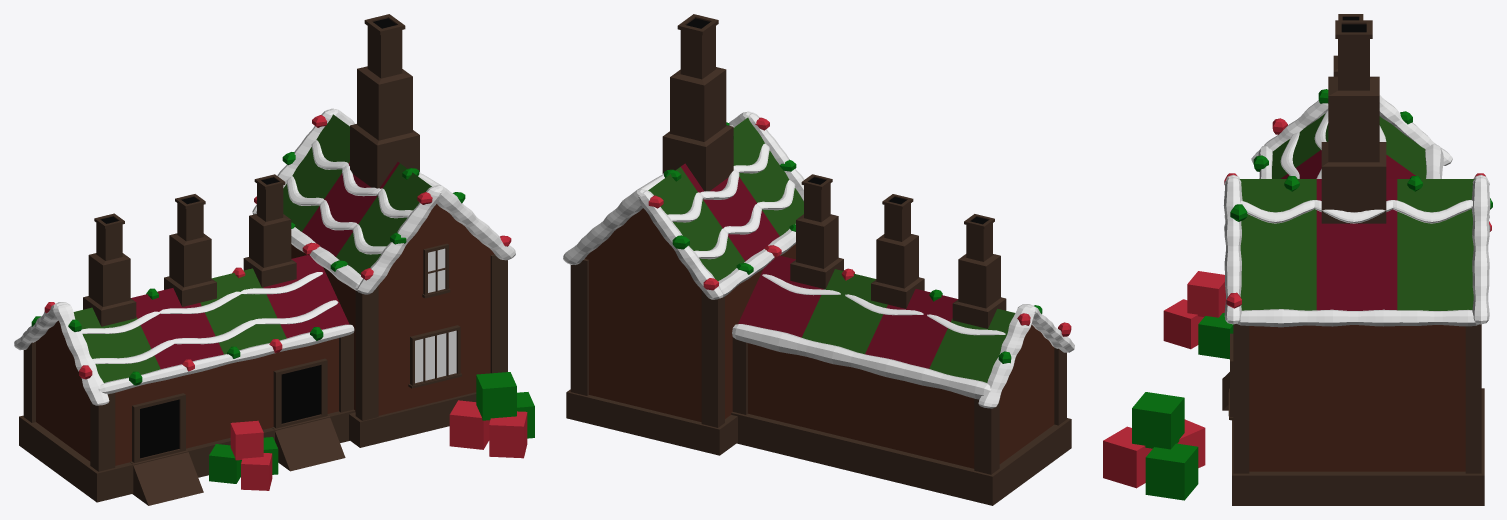
File: Factory.fbx
3 renders of one model, left to right at view 1: azimuth 30°, elevation 25°; view 2: azimuth 150°, elevation 25°; view 3: azimuth 270°, elevation 25°, orthographic. The views are drawn at different scales.
Parts seen in each view (by area): view 1: Home Base.004, Home Base.001, Tall Chimney.003, Home Foundation.006, Tall Chimney.007, Tall Chimney.006, Tall Chimney.005, Door.004, Door.005, Home Foundation.001, Support Pillar.006, Stair.005 (+25 smaller); view 2: Home Base.004, Home Base.001, Home Foundation.006, Tall Chimney.003, Home Foundation.001, Frosting Edge.002, Tall Chimney.007, Tall Chimney.006, Tall Chimney.005, Support Pillar.004, Support Pillar.005, Frosting Edge.009 (+8 smaller); view 3: Home Base.001, Tall Chimney.003, Home Foundation.001, Frosting Edge.007, Home Base.004, Cube.045, Cube.047, Support Pillar.007, Support Pillar.005, Frosting Edge.008, Frosting Edge.004, Cube.044 (+11 smaller).
Boxes of the visible parts, x1,y1,x2,y2 form: Home Base.004: (36,255,349,465); Home Base.001: (283,114,494,415); Tall Chimney.003: (350,14,419,188); Home Foundation.006: (19,409,355,502); Tall Chimney.007: (83,213,136,326); Tall Chimney.006: (243,174,296,287); Tall Chimney.005: (164,194,216,306); Door.004: (273,358,327,428); Door.005: (132,393,185,462); Home Foundation.001: (349,392,476,447); Support Pillar.006: (355,285,378,420); Stair.005: (130,449,203,505); Home Base.004: (738,255,1054,468); Home Base.001: (585,117,803,422); Home Foundation.006: (731,412,1071,505); Tall Chimney.003: (662,14,733,191); Home Foundation.001: (566,389,737,455); Frosting Edge.002: (732,324,991,399); Tall Chimney.007: (952,214,1006,328); Tall Chimney.006: (790,174,843,289); Tall Chimney.005: (871,194,924,308); Support Pillar.004: (701,290,724,427); Support Pillar.005: (570,259,588,395); Frosting Edge.009: (638,190,723,299); Home Base.001: (1239,179,1474,471); Tall Chimney.003: (1321,20,1386,223); Home Foundation.001: (1232,388,1484,505); Frosting Edge.007: (1237,309,1479,327); Home Base.004: (1272,113,1426,178); Cube.045: (1145,443,1198,500); Cube.047: (1132,392,1184,449); Support Pillar.007: (1233,324,1249,473); Support Pillar.005: (1465,324,1481,473); Frosting Edge.008: (1471,177,1490,324); Frosting Edge.004: (1223,177,1242,324); Cube.044: (1103,426,1152,488).
Size of the model in its own units: 271 by 231 by 186.
